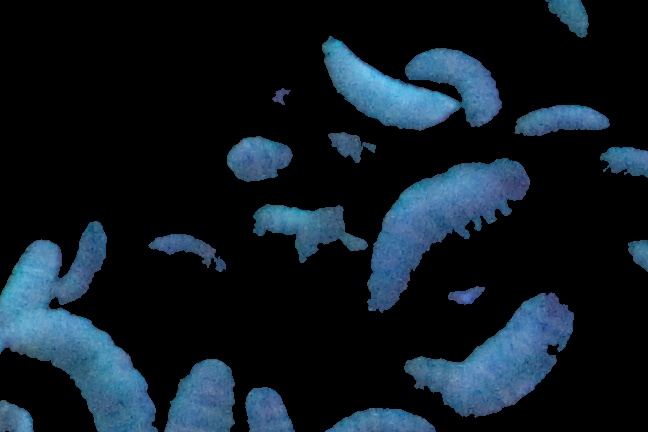larvae: (358, 158, 534, 332), (410, 295, 572, 414), (12, 315, 158, 429), (315, 39, 456, 126), (252, 187, 355, 286), (408, 40, 500, 129), (213, 127, 371, 174), (147, 232, 237, 301), (3, 235, 61, 334), (507, 97, 620, 143), (170, 357, 237, 432), (314, 399, 445, 432), (56, 221, 106, 306), (247, 381, 297, 432), (595, 145, 648, 189)
